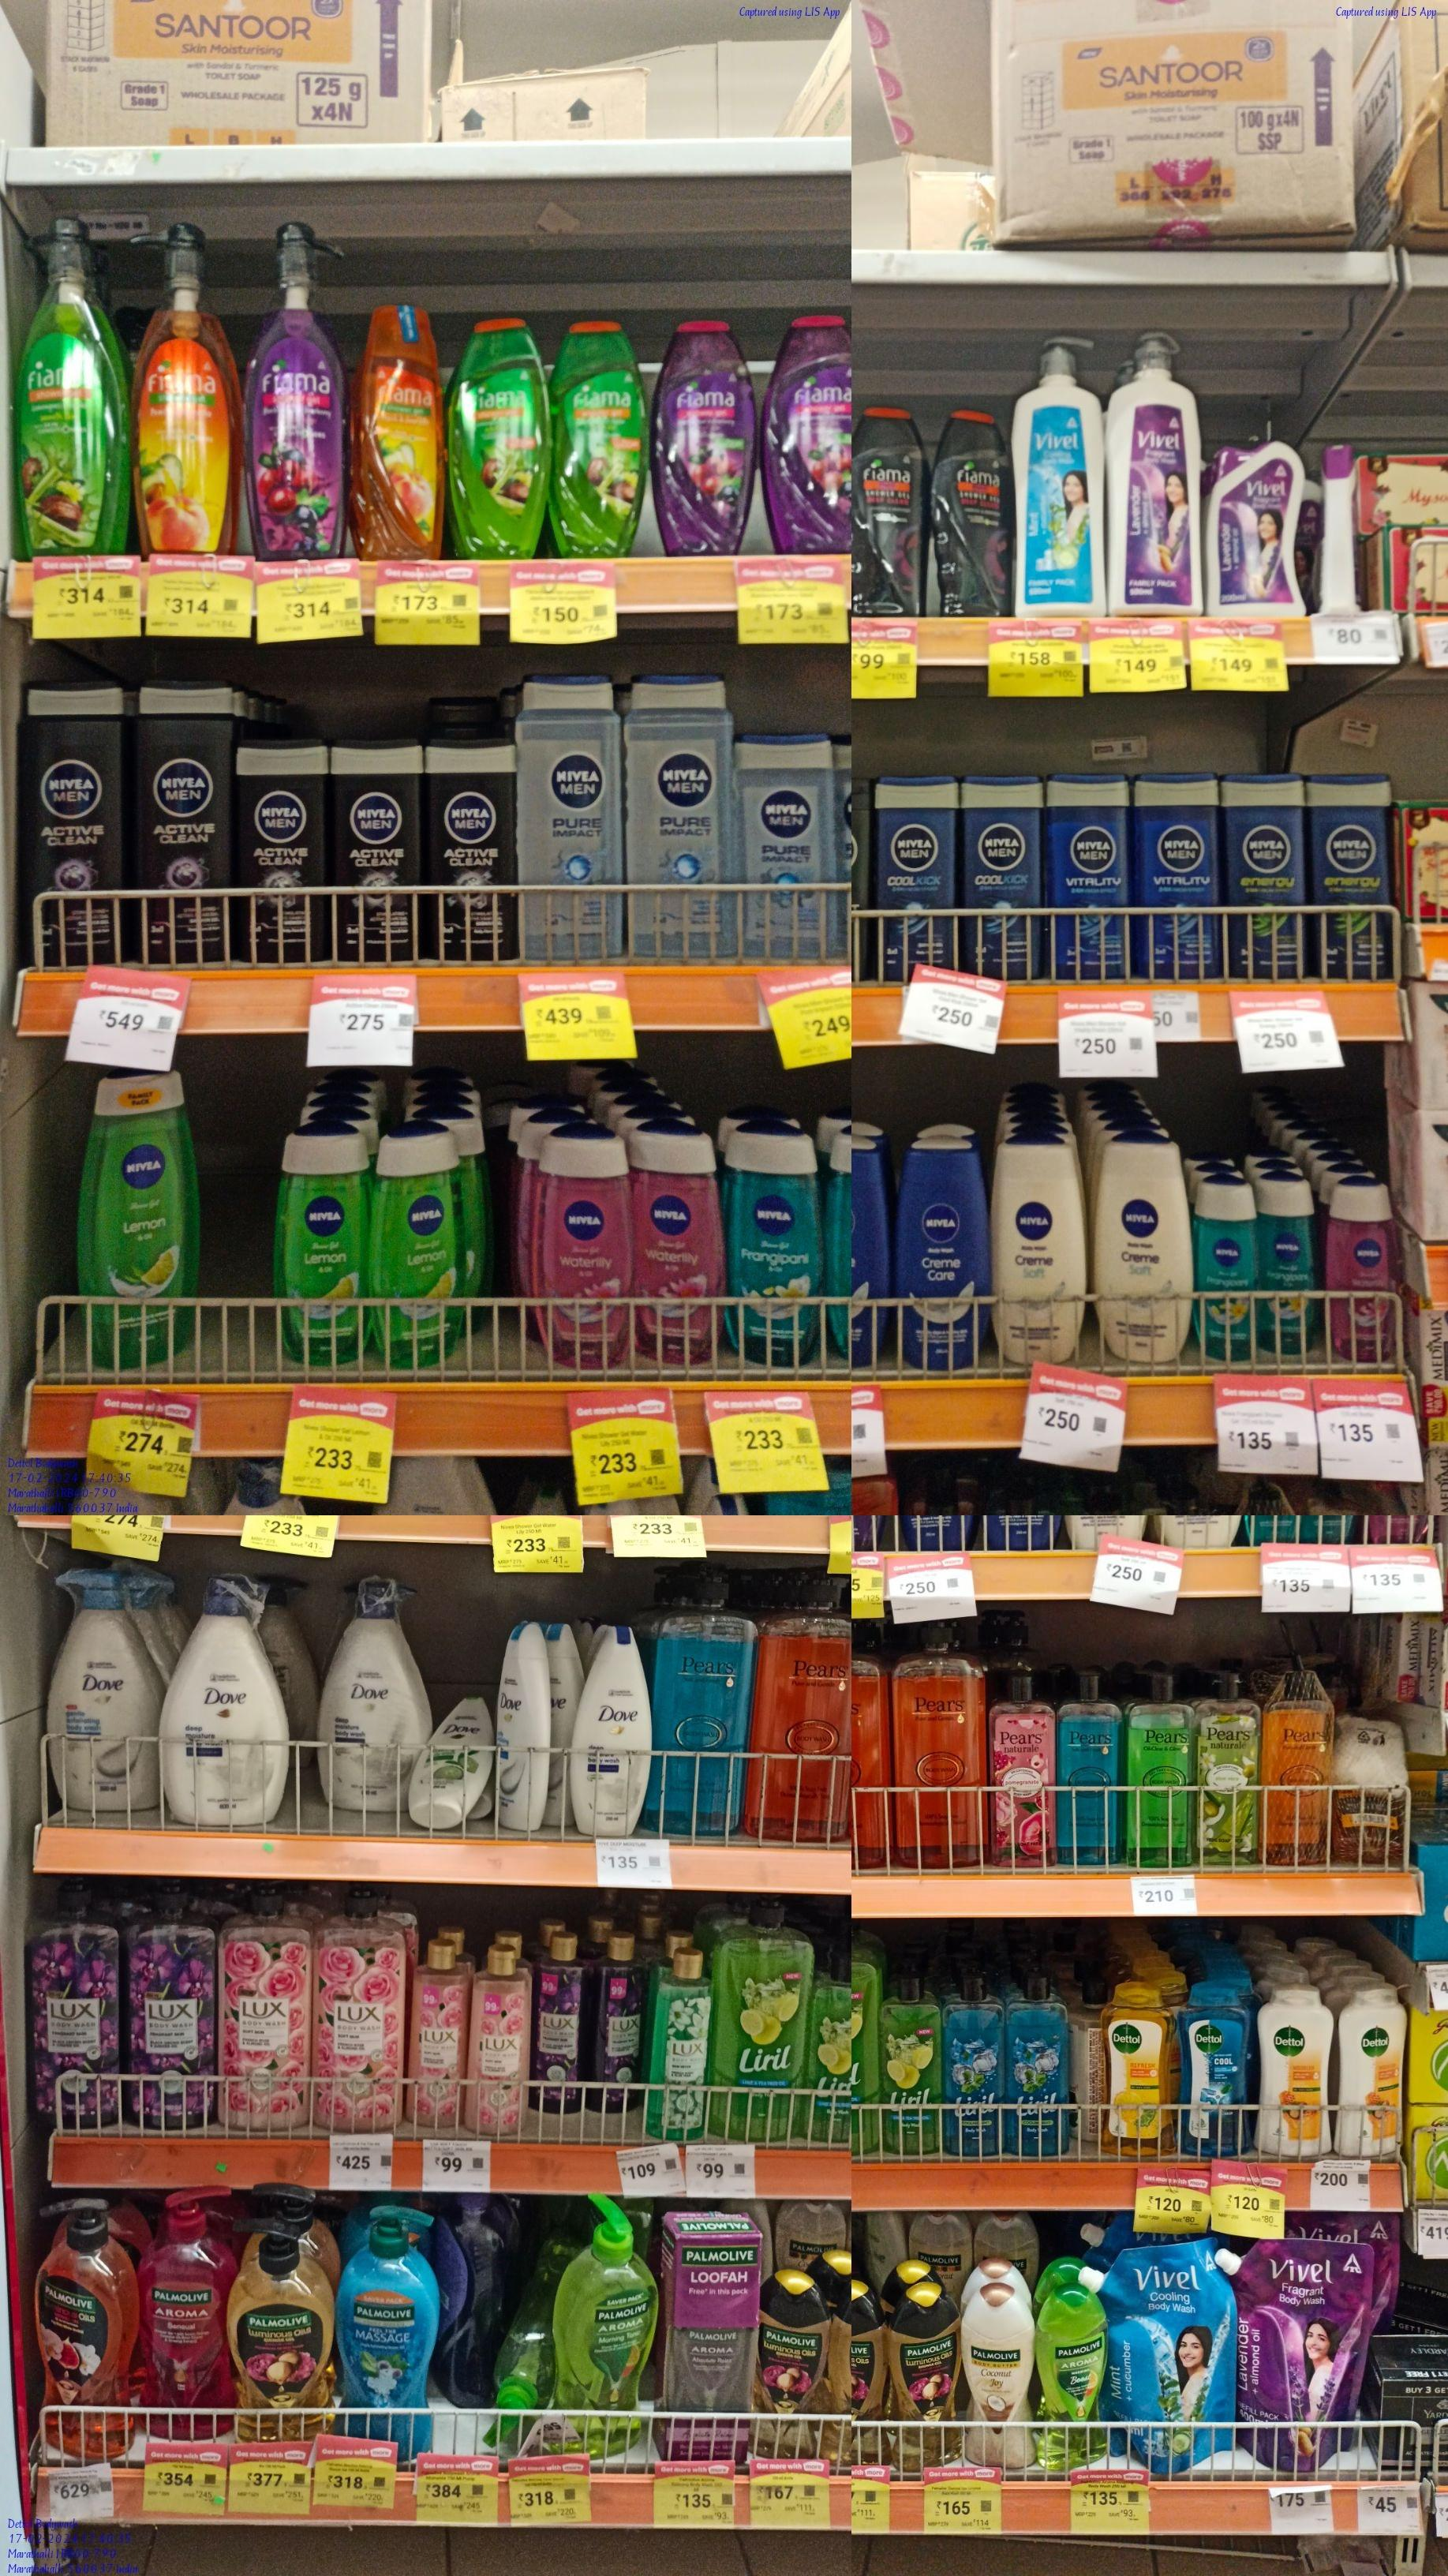Dettol_Bodywash_Cool: (1179, 1985, 1252, 2153)
Dettol_Bodywash_Refresh: (1105, 1980, 1176, 2157)
Dettol_Nourish_Body_Wash_250ML: (1257, 1983, 1330, 2157), (1335, 1982, 1406, 2157)
Dove_Deep_Moisture_Body_Wash_250ML: (569, 1624, 654, 1838)
Dove_Gentle_Exfoliating_Body_Wash_250ML: (497, 1617, 550, 1831)
Fiama_Shower_Gel_Lemongrass_and_Jojoba_250ML: (451, 317, 545, 556), (552, 313, 644, 556)
Liril_Cooling_Mint_Body_Wash_250ML: (1006, 1976, 1071, 2155), (944, 1976, 1004, 2157)
Liril_Lime_and_Tea_Tree_Oil_Body_Wash_250ML: (884, 1973, 941, 2153)
Lux_Black_Orchid_Scent_and_Juniper_Oil_Body_Wash_245ML: (534, 1928, 587, 2111), (592, 1932, 644, 2111)
Lux_Body_Wash_Skin_Detox_Freesia_Scent_and_Alove_Vera_245ML: (649, 1946, 707, 2146)
Nivea_Creme_Care_Body_Wash_250ML: (900, 1134, 981, 1364)
Nivea_Creme_Soft_Body_Wash_250ML: (1091, 1132, 1190, 1361), (994, 1132, 1087, 1362)
Nivea_Shower_Gel_Lemon_and_Oil_250ML: (87, 1074, 198, 1371), (269, 1120, 368, 1353), (375, 1116, 465, 1359)
Nivea_Shower_Gel_Waterlily_and_Oil_250ML: (727, 1118, 829, 1371), (537, 1118, 638, 1375), (638, 1108, 723, 1348)
Palmolive_Aroma_Morning_Tonic_Shower_Gel_250ML: (1036, 2279, 1114, 2472)
Palmolive_Coconut_Joy_Exfoliating_Body_Wash_250ML: (962, 2284, 1034, 2468)
Palmolive_Luminous_Oils_Invigorating_Macadamia_Oil_With_Peony_250ML: (891, 2282, 960, 2470), (758, 2265, 822, 2463)
Pears_Naturale_Aloe_Vera_Body_Wash_250ML: (1192, 1674, 1261, 1863)
Pears_Pure_Glycerin_and_Lemon_Flower_Extracts_Body_Wash_250ML: (1126, 1667, 1190, 1867)
Pears_Pure_Glycerin_and_Mint_Extracts_Body_Wash_250ML: (1057, 1672, 1119, 1863)
